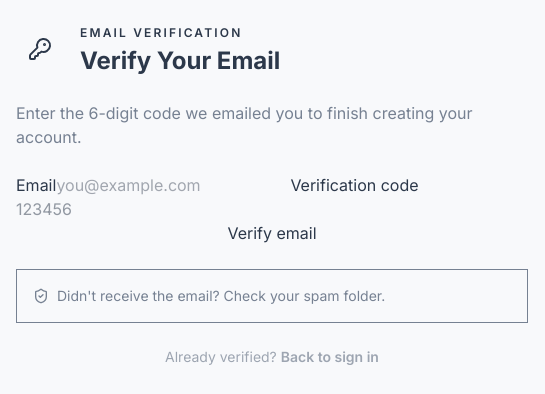
VerifyPage › requires email and code before submitting
Click the button with test id "verify-submit".
click(272, 233)  # box [16,221,528,245]
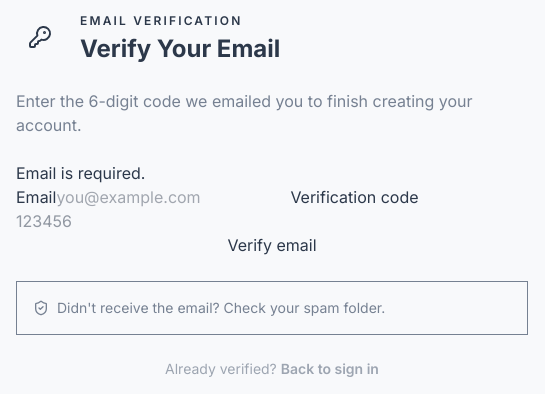
Now the message with test id "verify-error" reads "Email is required.", box [16,163,145,183]
